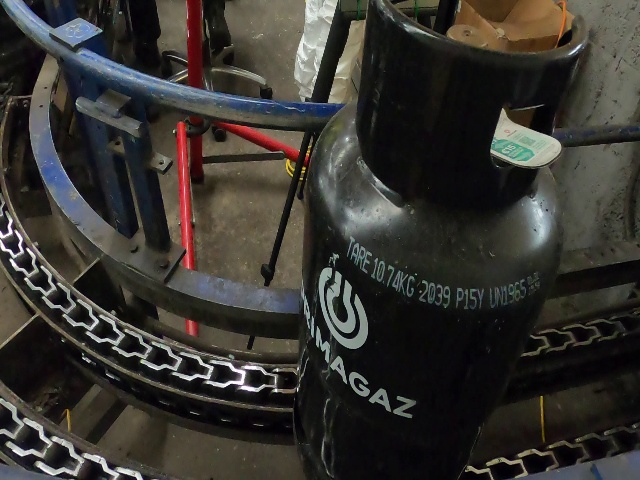gas_bottle: (0, 1, 640, 479)
